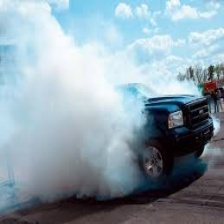smoke: (15, 62, 127, 186)
